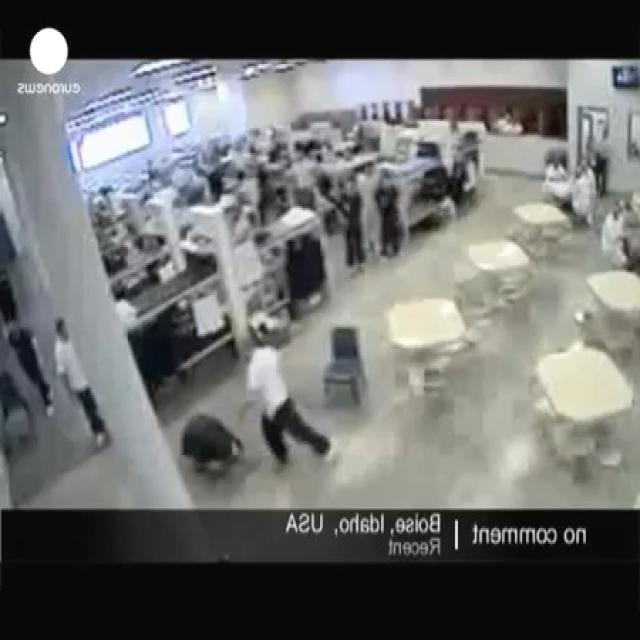fight: (167, 305, 298, 486)
